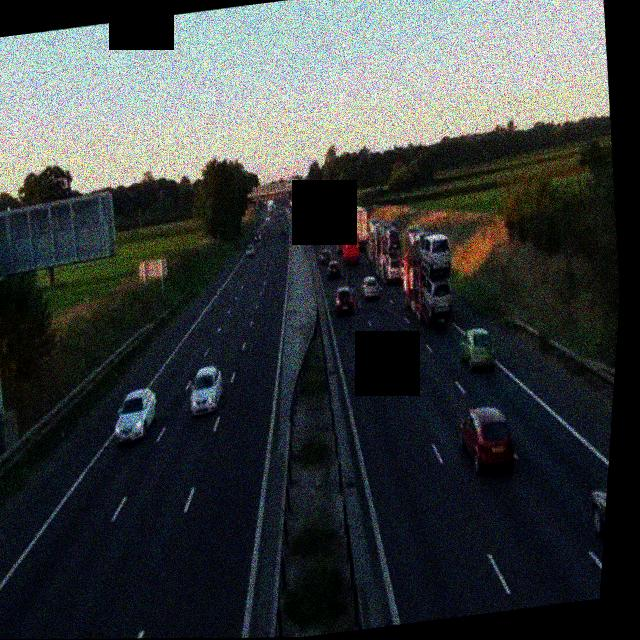car: (453, 403, 519, 474), (109, 386, 162, 443), (583, 484, 607, 593), (453, 325, 500, 375), (185, 363, 228, 416), (355, 340, 393, 385), (332, 285, 356, 316), (359, 273, 382, 299), (326, 256, 342, 277), (317, 246, 332, 264), (244, 242, 255, 256), (312, 230, 322, 244), (307, 220, 317, 233)
truck: (400, 253, 461, 331), (413, 231, 454, 279), (374, 220, 404, 261), (342, 205, 371, 247), (338, 227, 364, 265), (318, 197, 335, 226)
